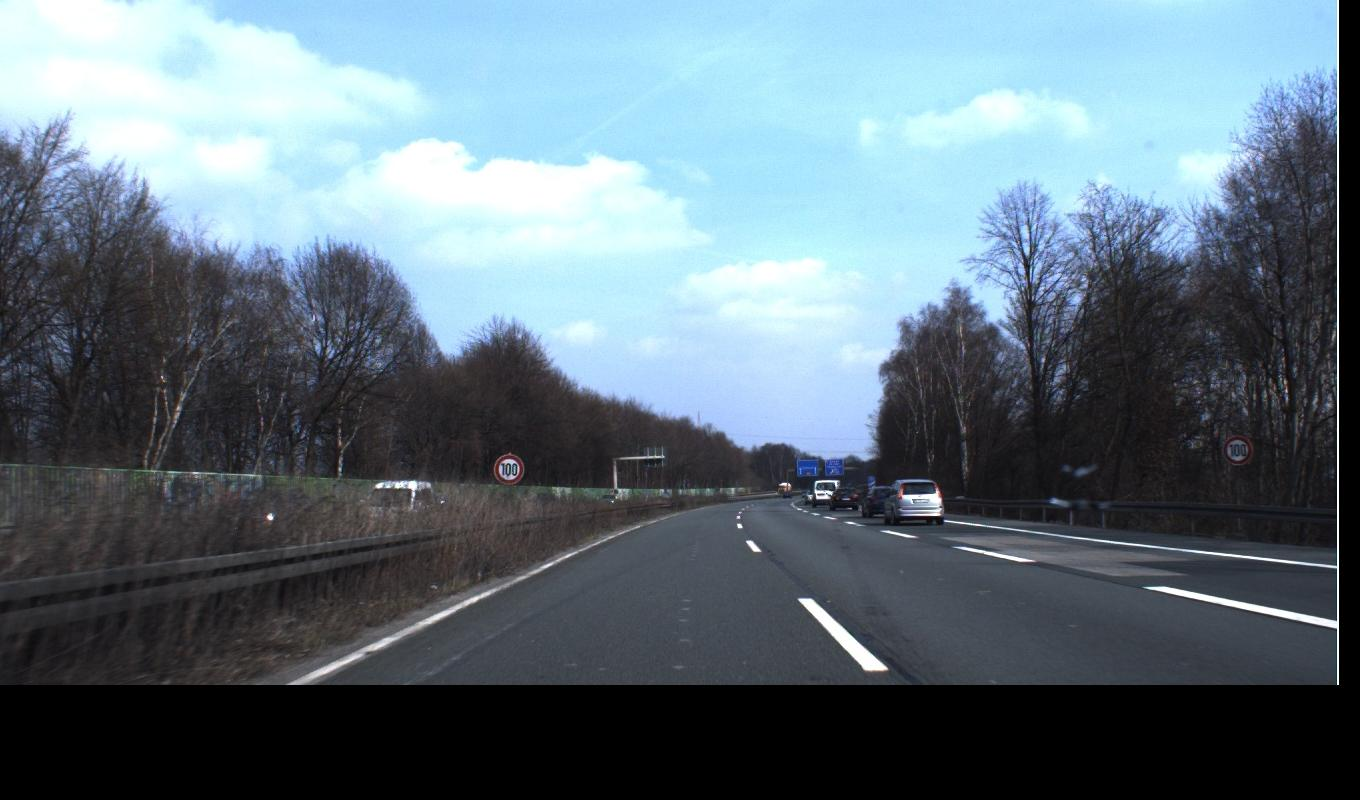speed limit 100: (493, 434, 1253, 485)
